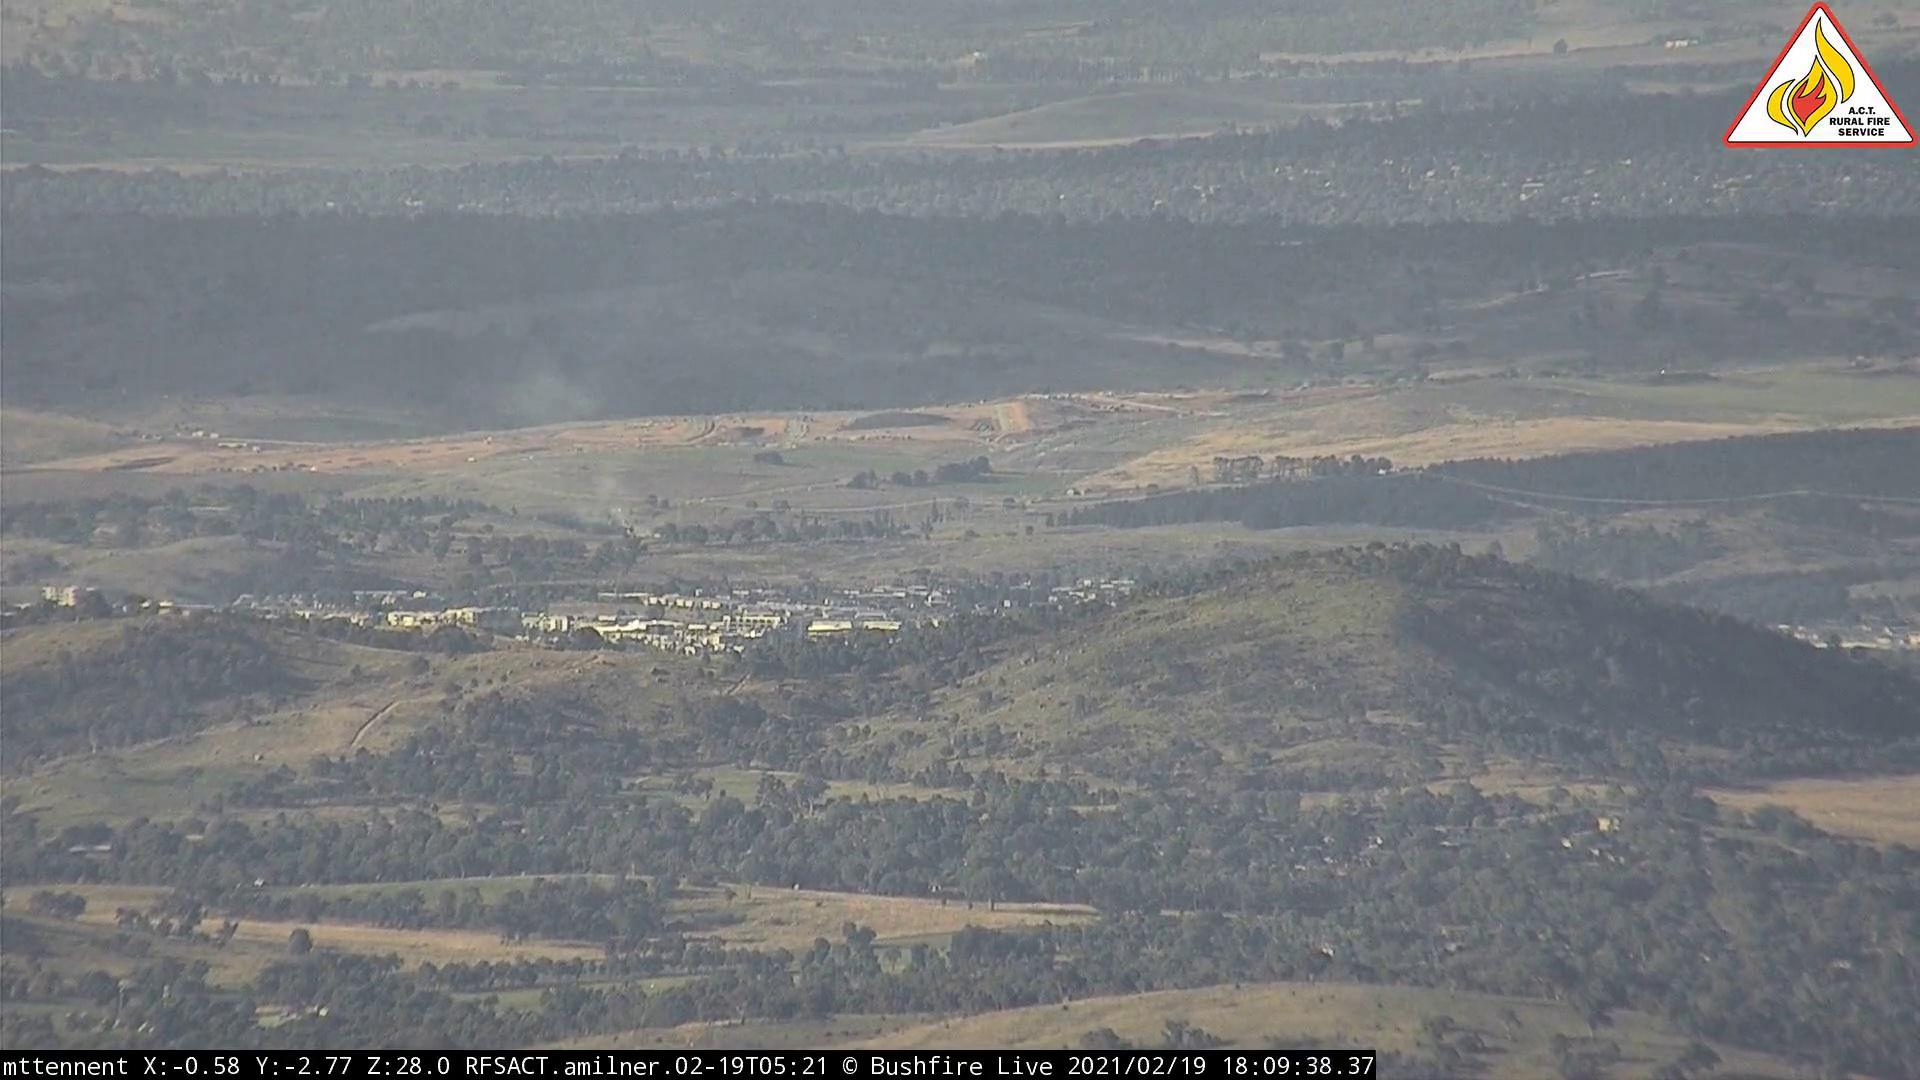Smoke: (599, 491, 651, 545)
